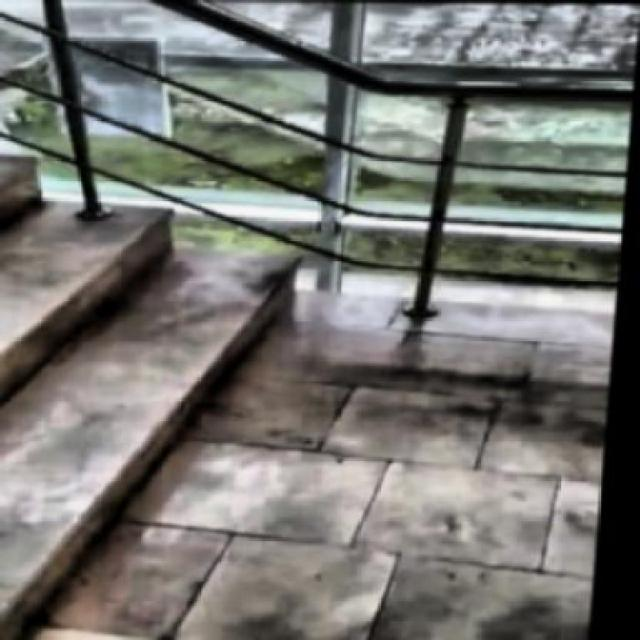stair: (0, 176, 345, 638)
